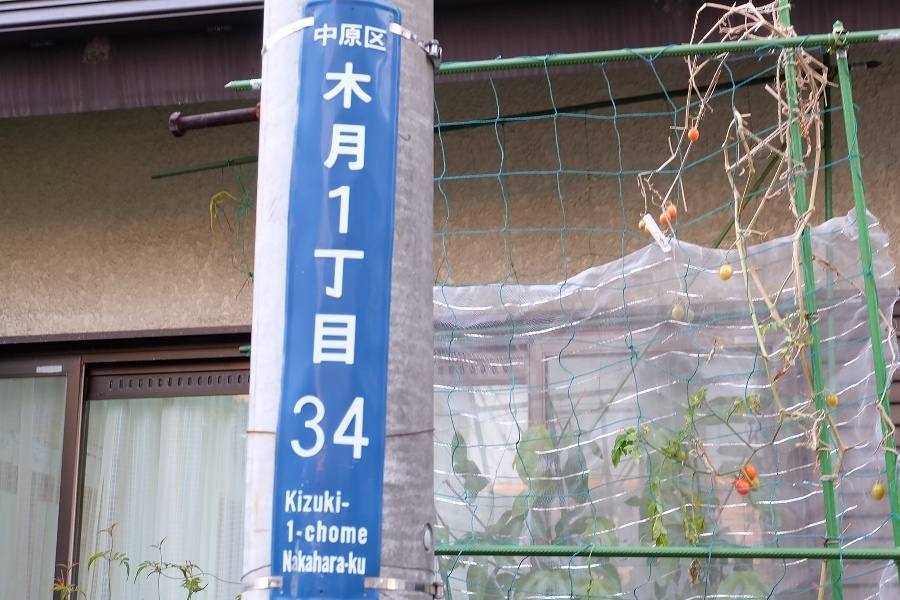text: (337, 61, 352, 464), (353, 61, 368, 464), (327, 61, 336, 464), (369, 61, 372, 464), (321, 21, 336, 53), (337, 21, 352, 53), (353, 21, 368, 53), (369, 21, 384, 53), (289, 518, 304, 545), (305, 518, 320, 545), (321, 518, 336, 545), (337, 518, 352, 545), (353, 518, 368, 545), (289, 551, 304, 576), (305, 551, 320, 576), (321, 551, 336, 576), (337, 551, 352, 576), (289, 491, 304, 514), (305, 491, 320, 514), (321, 491, 336, 514), (353, 551, 366, 576), (337, 491, 351, 514), (316, 21, 320, 53), (284, 551, 288, 576), (385, 21, 387, 53), (287, 518, 288, 545), (287, 491, 288, 514)
